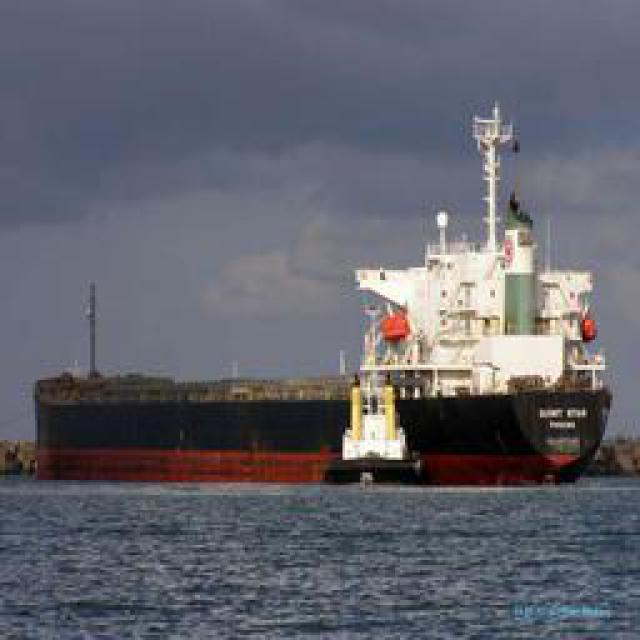Ship: (341, 107, 611, 477)
